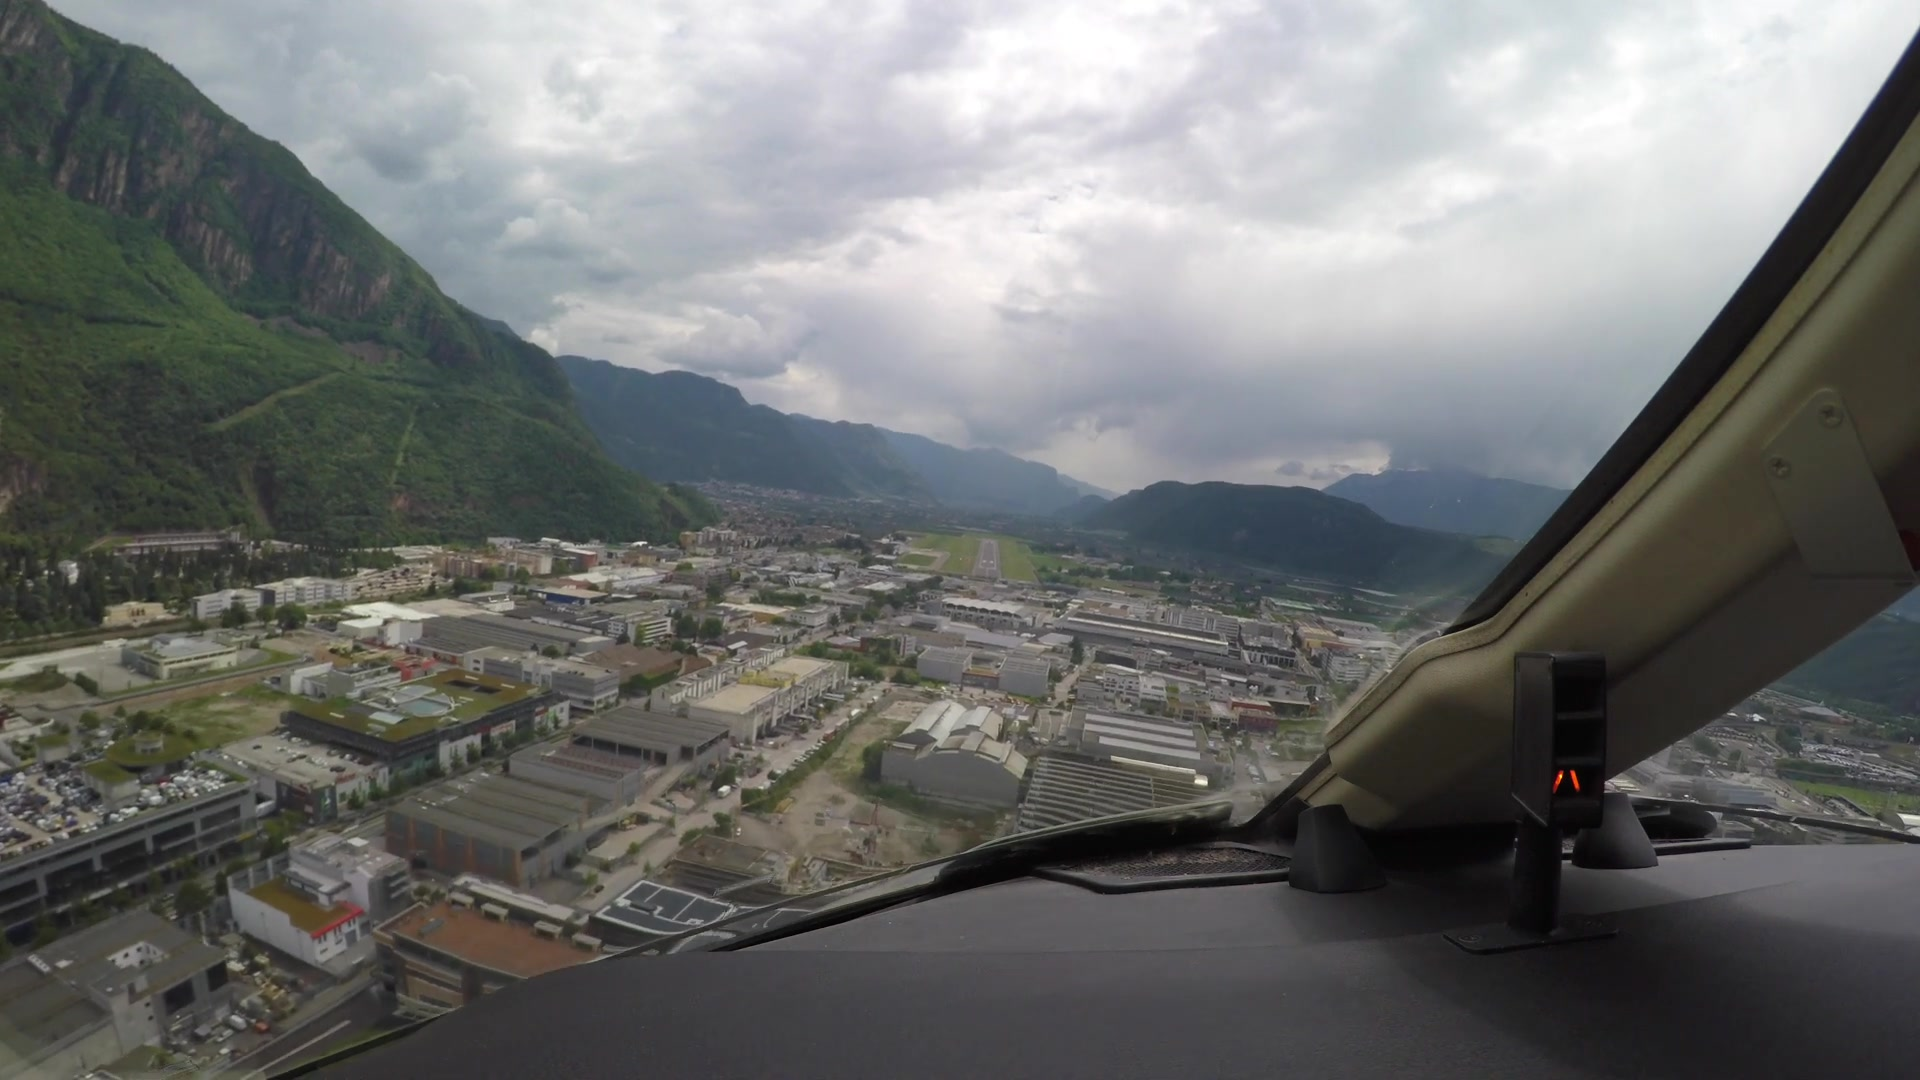runway: (977, 538, 997, 572)
